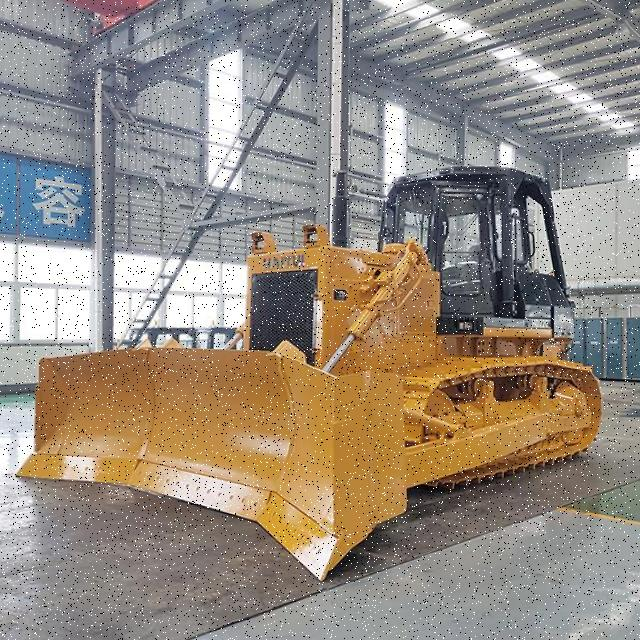Bulldozer: (1, 152, 637, 588)
